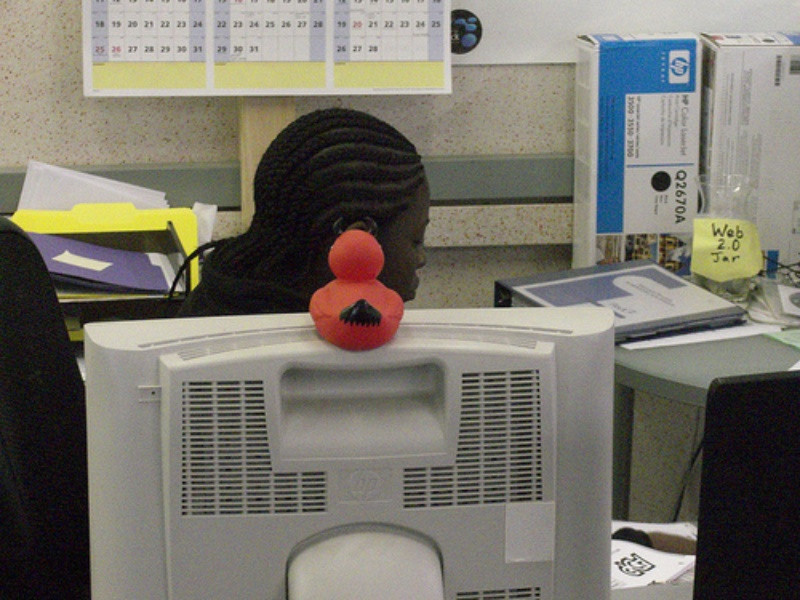person: (168, 108, 430, 315)
